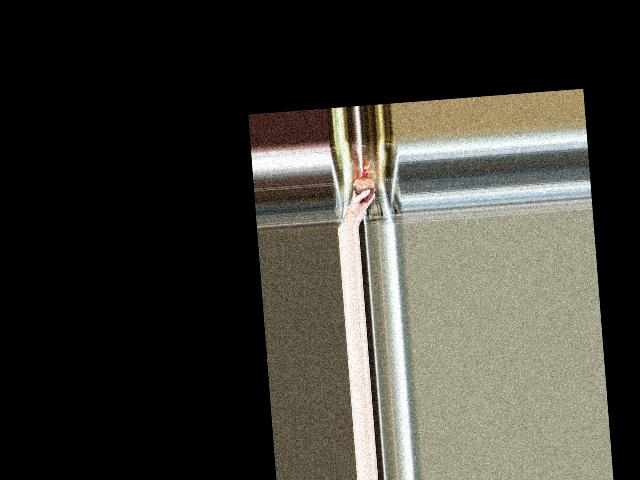beet: (351, 160, 376, 202)
